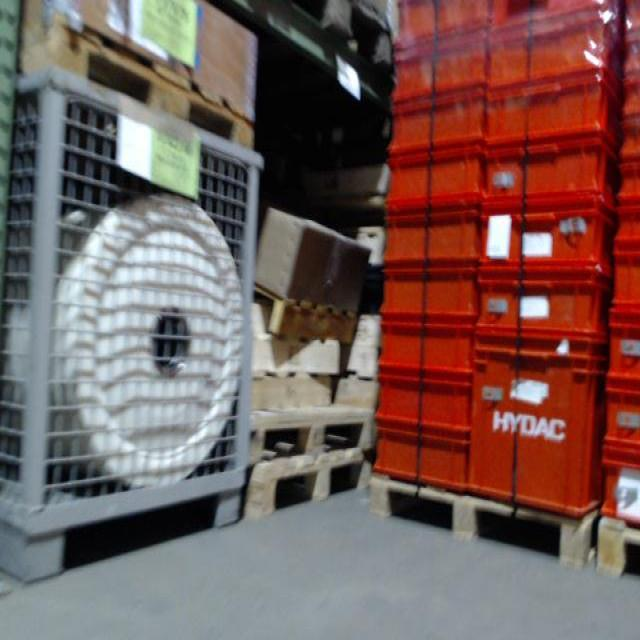pallet: (18, 10, 255, 159), (372, 464, 592, 569), (243, 3, 396, 69), (232, 393, 385, 455), (229, 451, 370, 518), (597, 513, 636, 582)
small_load_carrier: (468, 341, 607, 519), (485, 4, 616, 100), (476, 135, 618, 217), (477, 203, 618, 284), (476, 82, 621, 157), (476, 276, 611, 346), (386, 32, 491, 112), (385, 2, 520, 59), (379, 147, 483, 210), (375, 323, 475, 384), (365, 432, 476, 485), (375, 267, 479, 323), (383, 101, 483, 159), (379, 210, 479, 267), (373, 384, 475, 435), (598, 386, 640, 465), (603, 310, 640, 386), (600, 459, 637, 528), (603, 249, 640, 310), (611, 203, 640, 249), (611, 164, 639, 203), (617, 81, 640, 122), (617, 122, 639, 164), (622, 42, 640, 81), (622, 2, 638, 42)
stillage: (1, 52, 260, 586)
